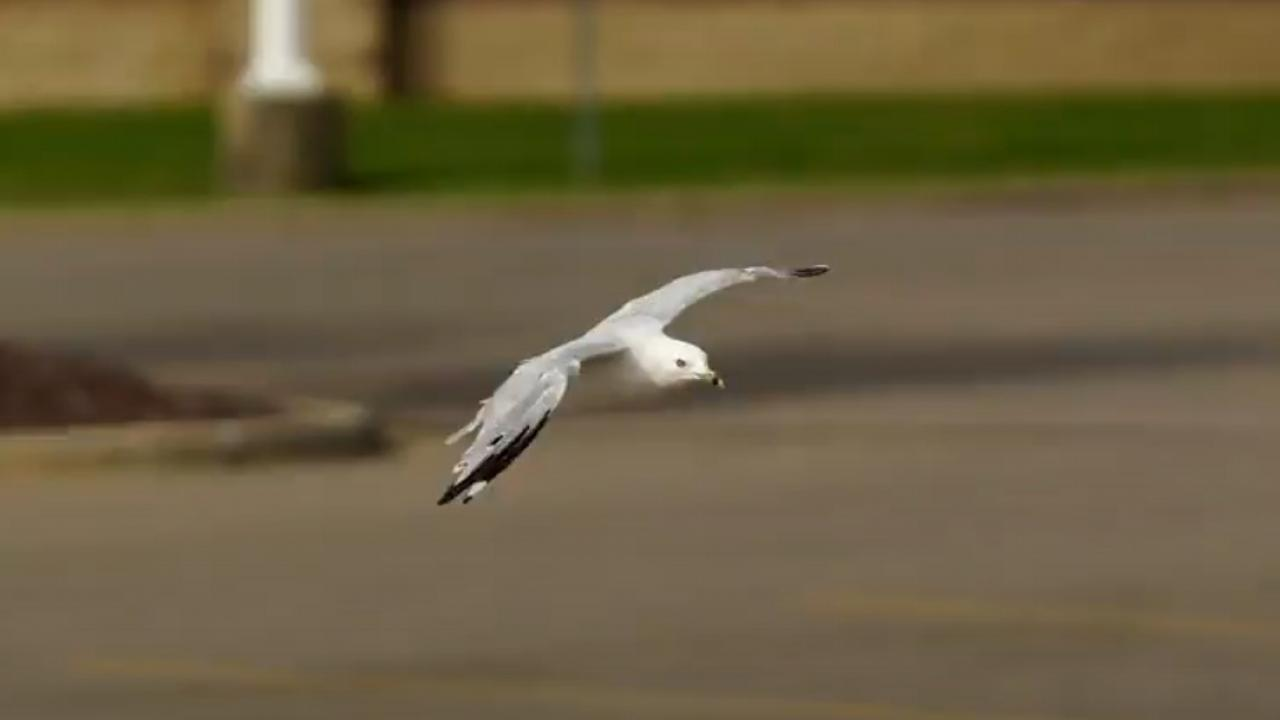Bird: (426, 256, 851, 520)
